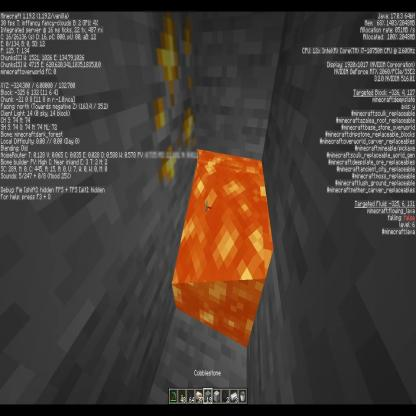gold ore: (143, 1, 197, 200)
